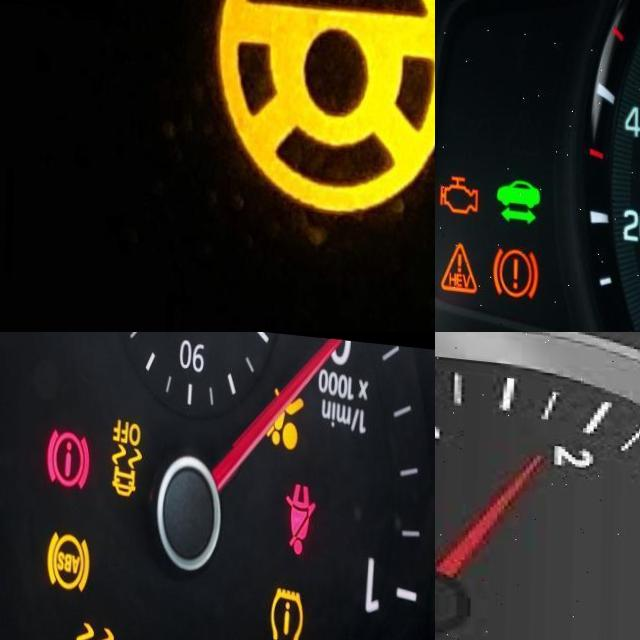Electronic Power Steering: (214, 0, 435, 224)
Seat Belt: (283, 471, 317, 547)
